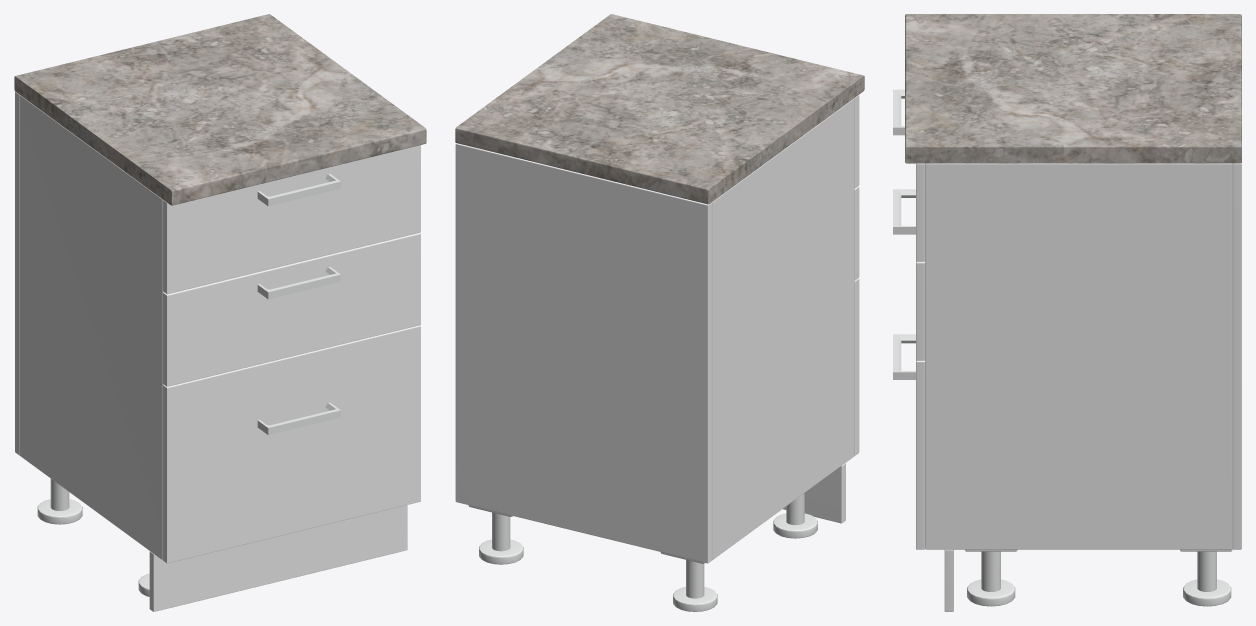
Rendered from cabinet1.glb.
The picture shows the model from 3 angles, left to right: view 1: azimuth 30°, elevation 25°; view 2: azimuth 150°, elevation 25°; view 3: azimuth 270°, elevation 25°; orthographic projection. The views are drawn at different scales.
Visible parts, largest first — view 1: Object_3; view 2: Object_3; view 3: Object_3.
Part boxes in pixels (x1,y1,x2,y2): Object_3: (14,14,426,611); Object_3: (455,14,864,611); Object_3: (893,14,1241,611).
Bounding box in the file's own units: 0.9019 × 1.47 × 1.
Materials: 7 (7 with a texture image).
